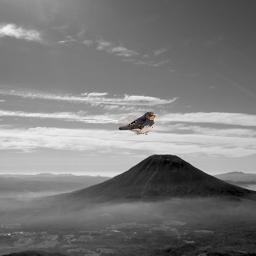Swallow: (118, 111, 156, 135)
